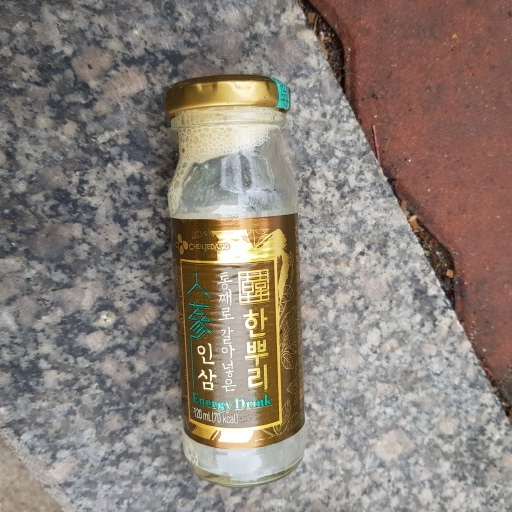Glass_4: (157, 71, 308, 487)
